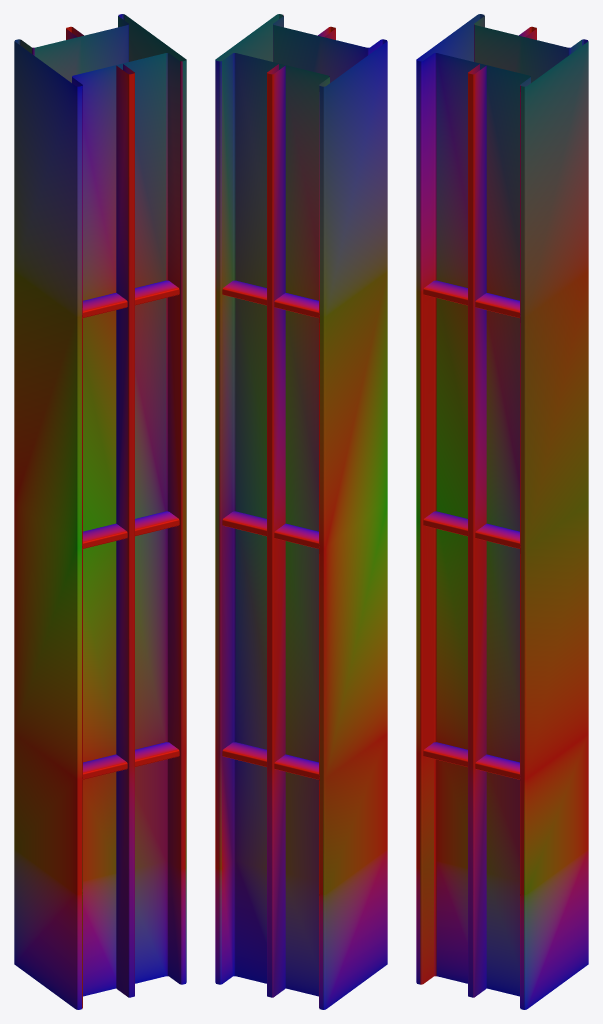
The model's file is BeamD_A_8.fbx.
3 views of the same model, side by side, from view 1: azimuth 30°, elevation 25°; view 2: azimuth 150°, elevation 25°; view 3: azimuth 330°, elevation 25° (orthographic).
Visible parts, largest first — view 1: Cube.003; view 2: Cube.003; view 3: Cube.003.
Part boxes in pixels (<box>): Cube.003: <box>14,14,186,1009</box>; Cube.003: <box>215,14,387,1009</box>; Cube.003: <box>416,14,588,1009</box>.
Bounding box in the file's own units: 100 × 800 × 100.
